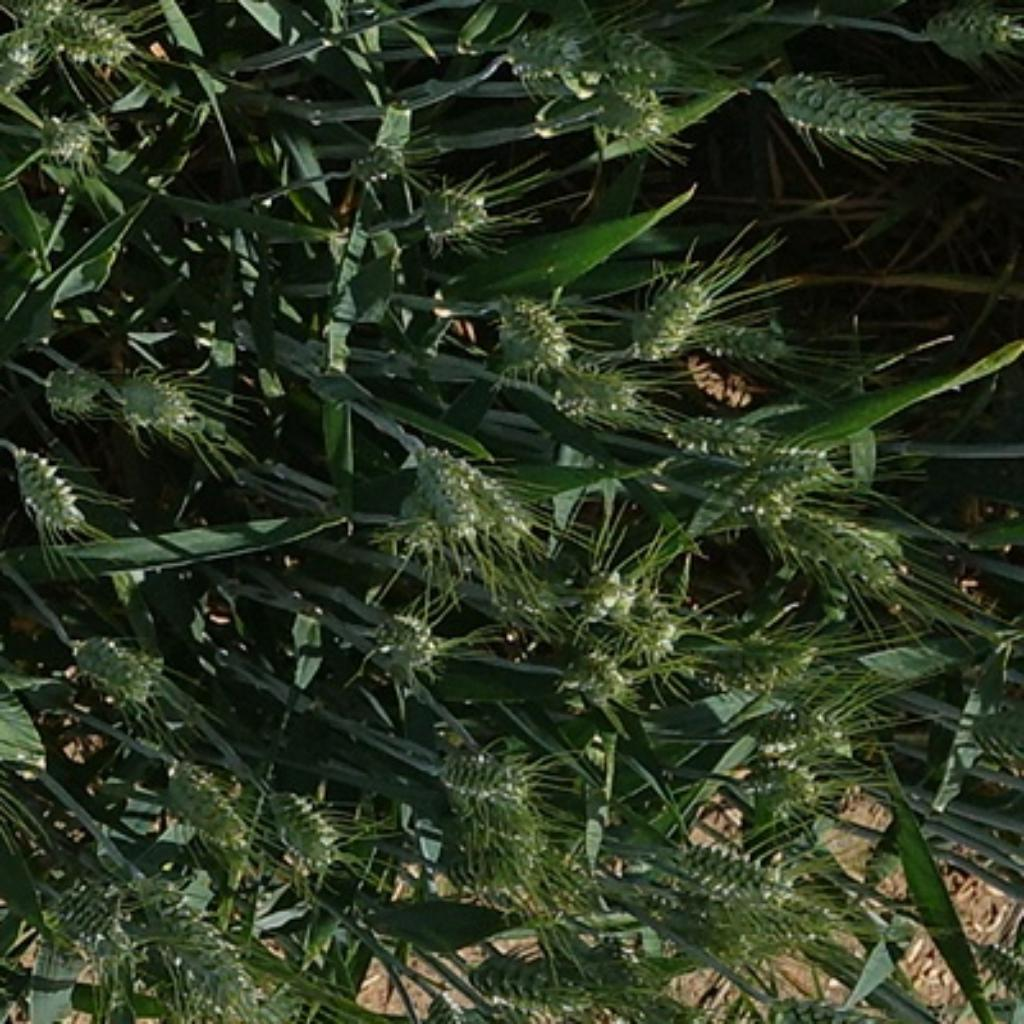0-0: (142, 878, 280, 1024), (749, 53, 928, 156), (750, 488, 906, 599), (647, 880, 808, 970), (640, 837, 803, 924), (576, 927, 703, 1022), (458, 937, 602, 1019), (0, 0, 156, 69), (551, 544, 661, 641), (691, 619, 826, 698), (429, 442, 537, 539), (156, 744, 250, 855), (616, 263, 716, 358), (43, 865, 143, 957), (481, 286, 578, 376), (14, 447, 99, 547), (493, 13, 595, 95), (72, 634, 169, 718), (742, 696, 860, 765), (358, 596, 445, 686), (258, 778, 345, 867), (412, 450, 489, 550), (545, 353, 645, 427), (732, 744, 826, 821), (409, 168, 499, 248), (107, 363, 199, 437), (696, 306, 796, 373), (655, 407, 778, 460), (745, 429, 842, 496), (345, 102, 417, 192), (547, 634, 632, 709), (445, 836, 542, 900), (926, 4, 1023, 68), (584, 87, 676, 151), (970, 687, 1022, 789), (755, 993, 911, 1024), (38, 355, 110, 419), (28, 104, 102, 166), (604, 30, 686, 84), (438, 750, 506, 806), (972, 934, 1023, 1004), (636, 609, 686, 677), (0, 35, 48, 104), (488, 759, 545, 813)
